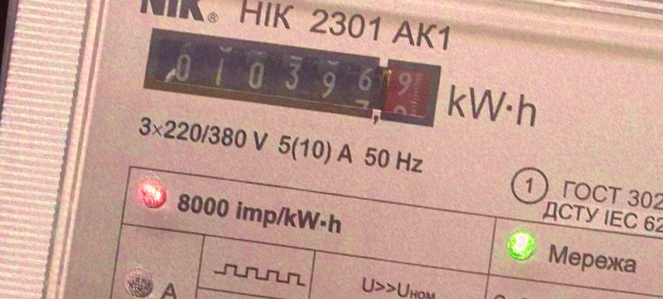0: (241, 57, 267, 92), (168, 48, 192, 83)
1: (209, 53, 226, 87)
3: (280, 59, 302, 94)
6: (351, 63, 376, 94)
9: (313, 67, 337, 102), (389, 68, 413, 100)
screen: (124, 13, 452, 142)
